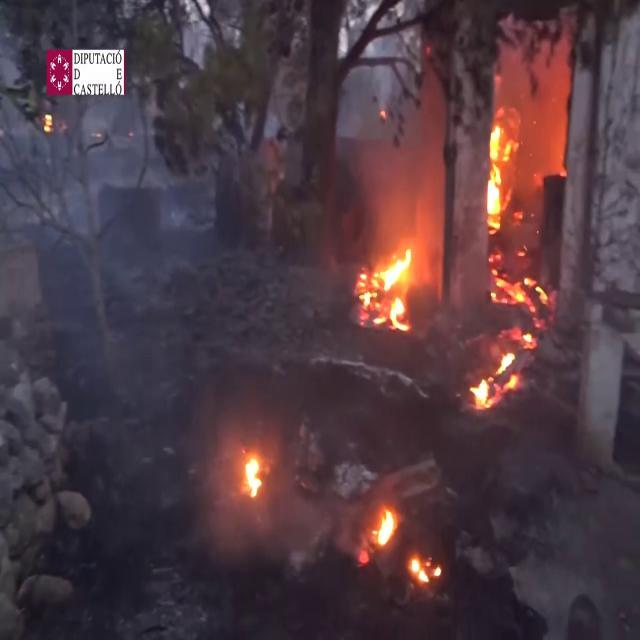Fire: (366, 496, 442, 590), (354, 235, 420, 328), (482, 114, 518, 226), (467, 348, 521, 410), (238, 442, 266, 502), (370, 500, 400, 556), (406, 548, 444, 588)
